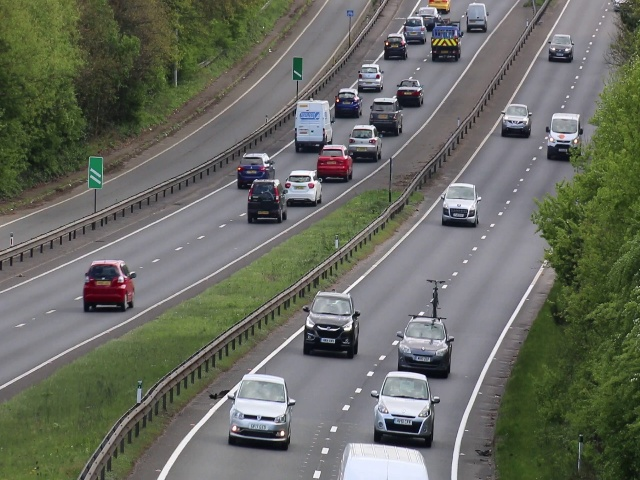car: (231, 373, 291, 446), (374, 373, 433, 441), (303, 291, 354, 356), (82, 259, 134, 312), (398, 320, 449, 366), (440, 181, 486, 229), (547, 111, 580, 163), (244, 182, 287, 221), (296, 102, 330, 147), (369, 95, 404, 137), (431, 19, 462, 63), (286, 171, 322, 204), (321, 145, 351, 181), (332, 88, 361, 116), (504, 103, 531, 133), (465, 2, 489, 34), (381, 34, 409, 61), (545, 34, 573, 61), (238, 155, 271, 176), (405, 16, 425, 44), (359, 65, 377, 95), (396, 78, 421, 99)
